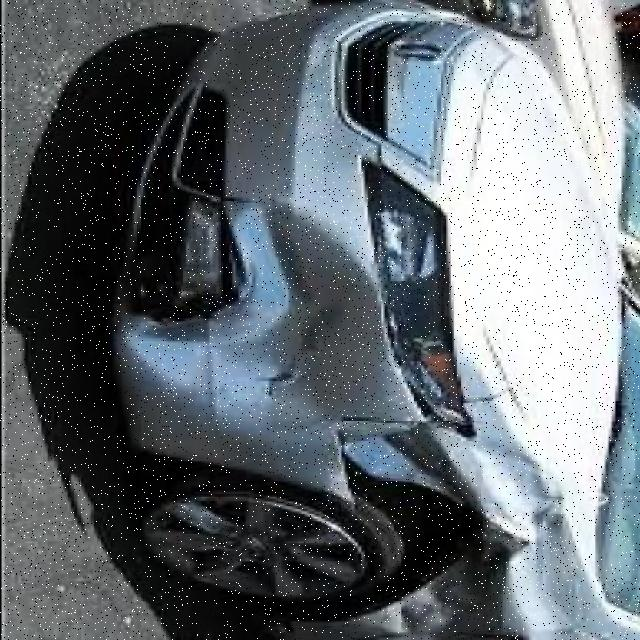damage: (115, 159, 611, 637)
